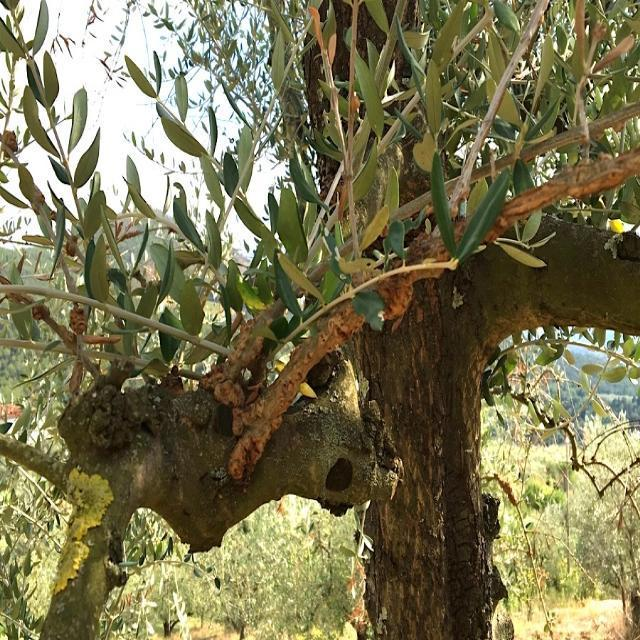Tuberculosis: (228, 302, 362, 480), (199, 321, 266, 407), (376, 266, 448, 326), (69, 303, 87, 334), (0, 130, 17, 158), (64, 238, 78, 257)
